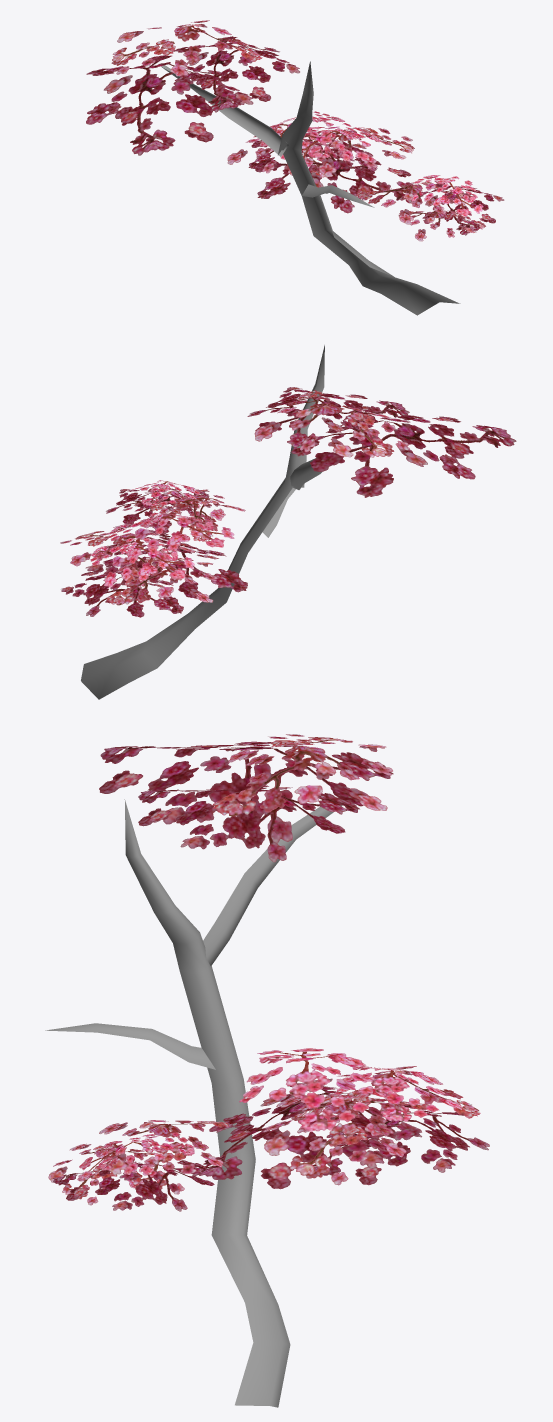
File: S_Tree_Red002_A5.FBX
3 views of the same model, one above another, from view 1: azimuth 30°, elevation 25°; view 2: azimuth 150°, elevation 25°; view 3: azimuth 270°, elevation 25° (orthographic). The views are drawn at different scales.
Visible parts, largest first — view 1: S_Tree_Red002_A5_2, S_Tree_Red002_A5_1; view 2: S_Tree_Red002_A5_2, S_Tree_Red002_A5_1; view 3: S_Tree_Red002_A5_2, S_Tree_Red002_A5_1.
Boxes of the visible parts, x1,y1,x2,y2 form: S_Tree_Red002_A5_2: (86, 20, 504, 241); S_Tree_Red002_A5_1: (161, 61, 460, 315); S_Tree_Red002_A5_2: (60, 387, 516, 617); S_Tree_Red002_A5_1: (81, 345, 324, 699); S_Tree_Red002_A5_2: (48, 734, 489, 1211); S_Tree_Red002_A5_1: (45, 799, 342, 1407).
Bounding box in the file's own units: 381 × 292 × 279.
